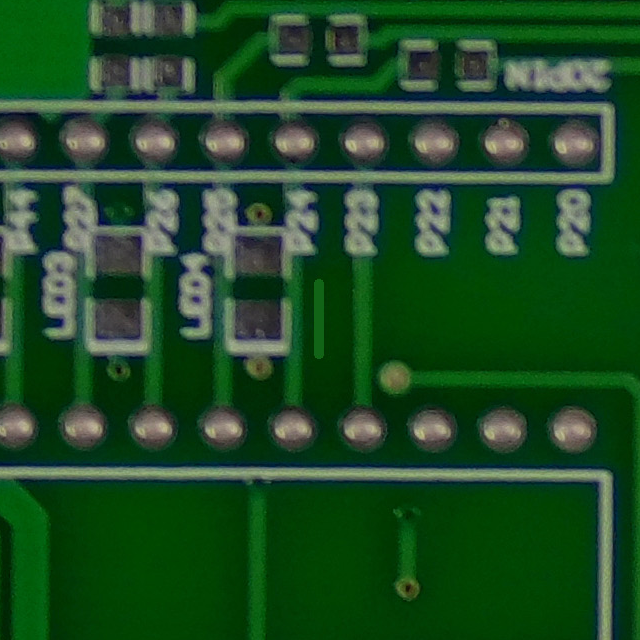spurious_copper: (292, 268, 349, 372)
